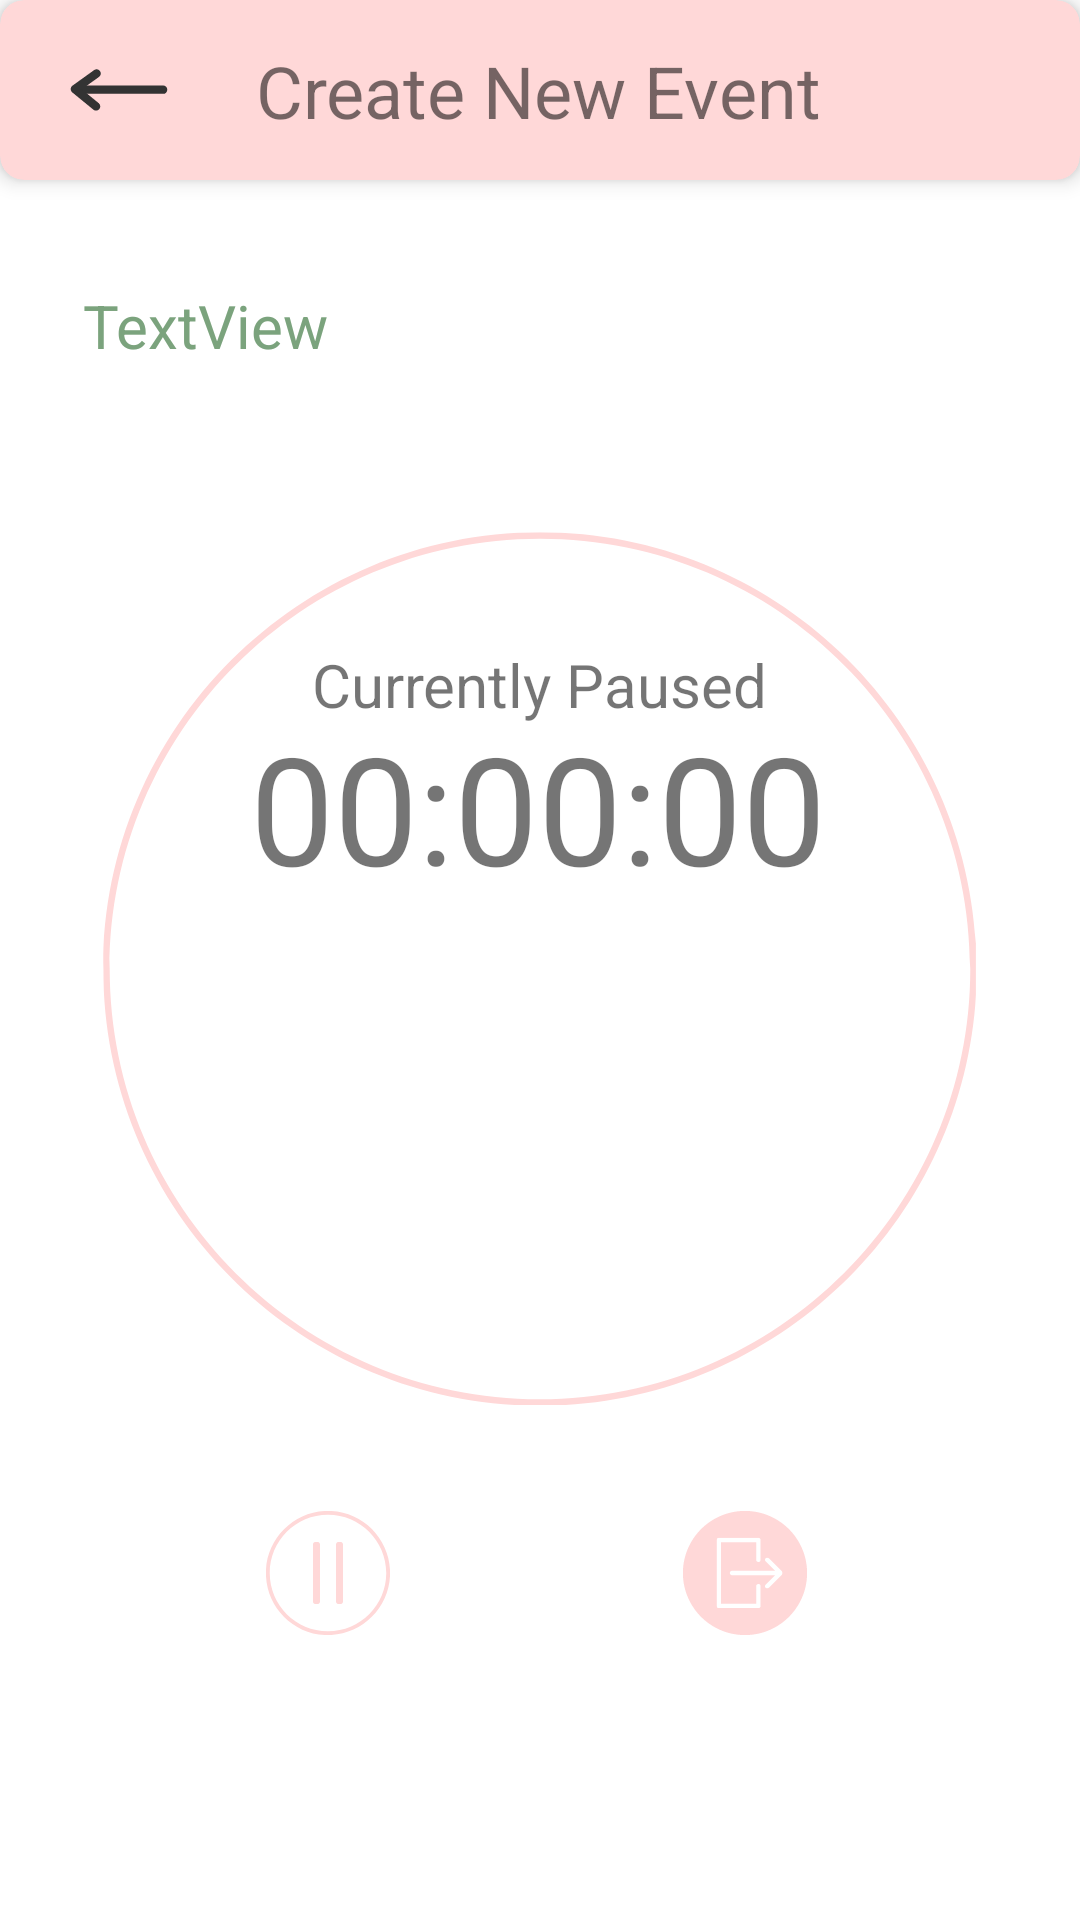

Icon bounding boxes for this 1080*1920 phone screenshot, format box=[x1, y1, x2, y2]:
endbutton: box=[683, 1511, 807, 1635]
Pause: box=[266, 1511, 390, 1635]
return: box=[70, 69, 168, 111]
